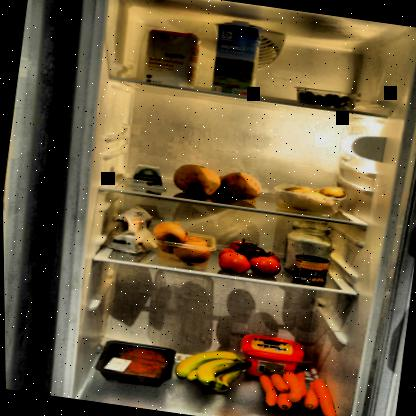banana: (172, 344, 253, 397)
beef: (91, 337, 177, 389)
blueberries: (292, 85, 361, 112)
butter: (234, 331, 306, 383)
carrot: (248, 361, 349, 415)
corn: (291, 252, 329, 286)
milk: (209, 16, 266, 100)
onion: (148, 218, 220, 271)
potato: (274, 177, 350, 217)
sweet_potato: (169, 160, 264, 204)
tomato: (215, 234, 284, 280)
